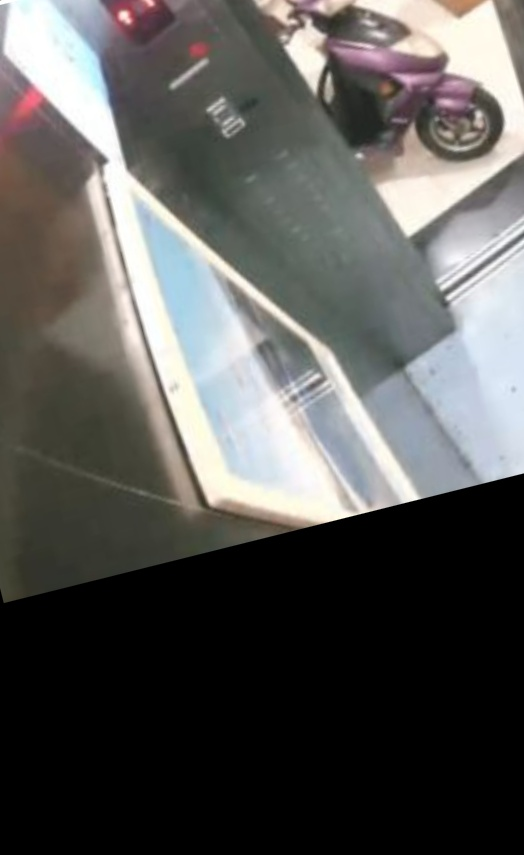ebike: (289, 1, 509, 167)
